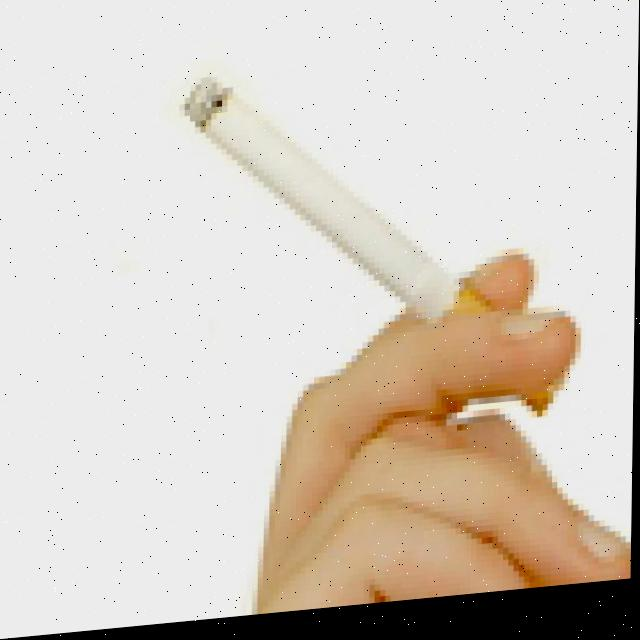cigarette: (180, 53, 562, 448)
